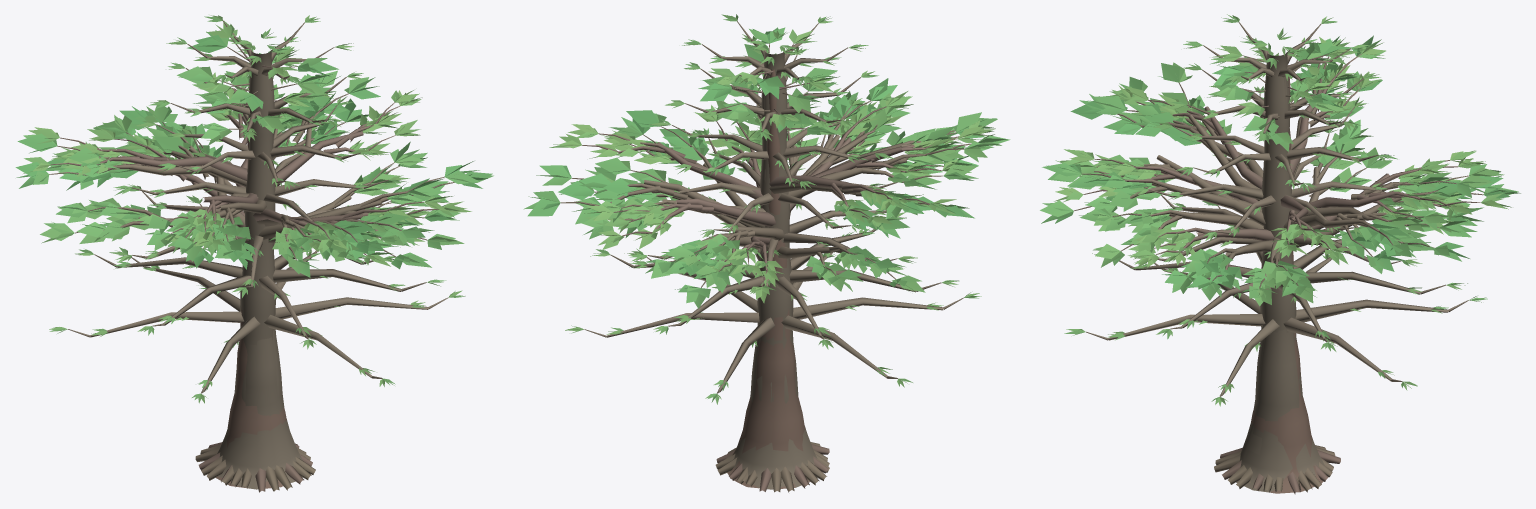
The model's file is canopy-tree-library-original-v1.glb.
The picture shows the model from 3 angles, left to right: view 1: azimuth 30°, elevation 25°; view 2: azimuth 150°, elevation 25°; view 3: azimuth 270°, elevation 25°; orthographic projection.
Parts seen in each view (by area): view 1: canopy-tree-load-bearing-structure (×4), canopy-tree-attached-leaves (×4); view 2: canopy-tree-load-bearing-structure (×4), canopy-tree-attached-leaves (×4); view 3: canopy-tree-load-bearing-structure (×4), canopy-tree-attached-leaves (×4).
Part boxes in pixels (bbox=[...]): canopy-tree-load-bearing-structure (×4): bbox=[49, 21, 454, 492]; canopy-tree-attached-leaves (×4): bbox=[15, 15, 493, 403]; canopy-tree-load-bearing-structure (×4): bbox=[560, 21, 971, 492]; canopy-tree-attached-leaves (×4): bbox=[523, 14, 1010, 404]; canopy-tree-load-bearing-structure (×4): bbox=[1074, 22, 1483, 494]; canopy-tree-attached-leaves (×4): bbox=[1040, 14, 1520, 406].
Size of the model in its own units: 7.5 by 7.3 by 7.37.
